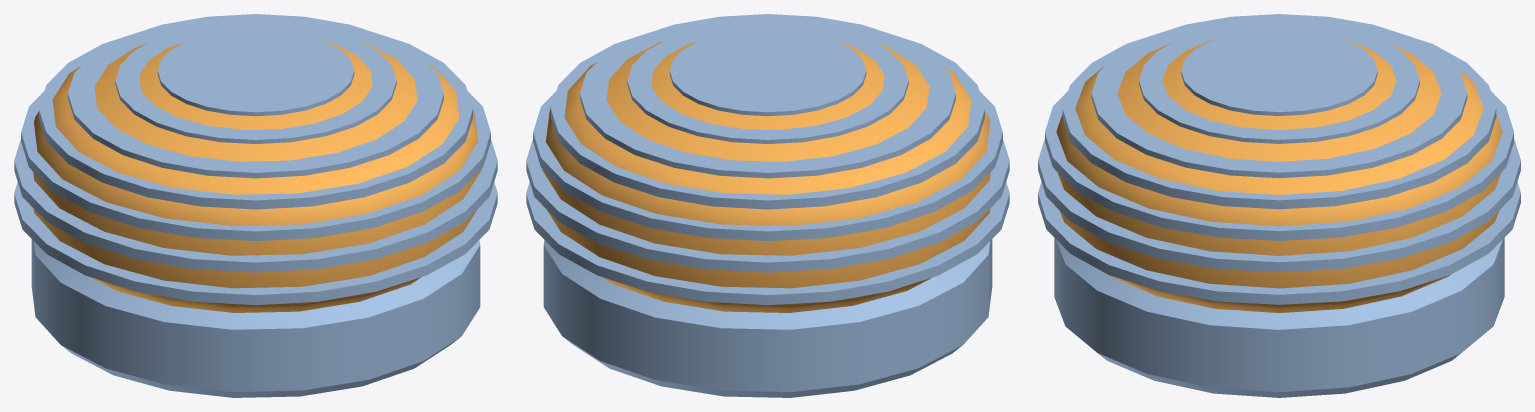
File: lampion.glb
3 views of the same model, side by side, from view 1: azimuth 30°, elevation 25°; view 2: azimuth 150°, elevation 25°; view 3: azimuth 270°, elevation 25° (orthographic).
Parts seen in each view (by area): view 1: Cylinder.002; view 2: Cylinder.002; view 3: Cylinder.002.
Part boxes in pixels (<box>): Cylinder.002: <box>14,14,497,397</box>; Cylinder.002: <box>526,14,1009,397</box>; Cylinder.002: <box>1038,14,1520,397</box>.
Size of the model in its own units: 0.1067 by 0.0579 by 0.1067.
